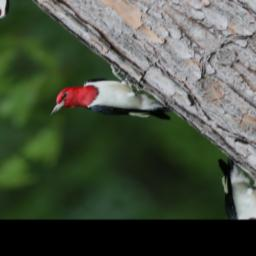Woodpecker: (40, 51, 180, 168)
